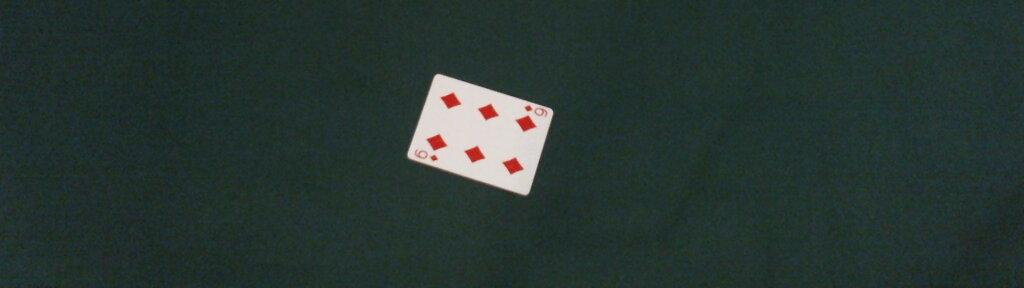six: (405, 73, 554, 197)
